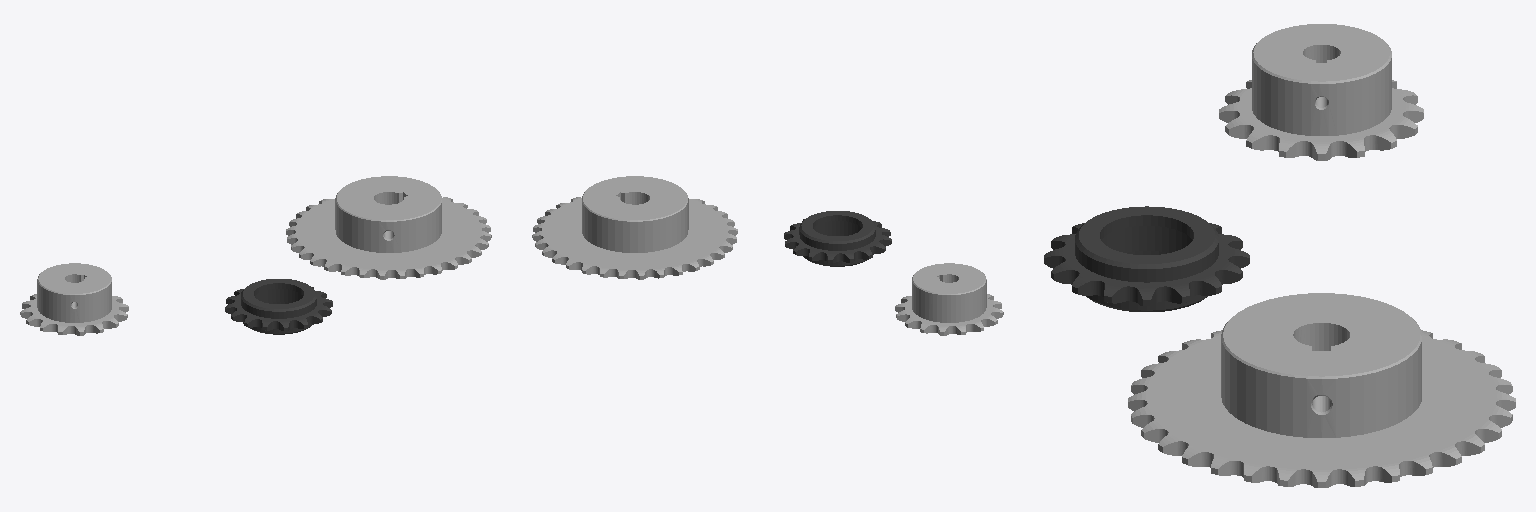
robot.urdf — board:
<?xml version="1.0"?>
<!-- Generated by scripts/debug/gen_bike_chain_board_urdf.py from bike_chain_task_board.sdf; do not edit. -->
<!-- tooth planes aligned to the large sprocket (deviation from the SDF): small_sprocket +3.00 mm, large_sprocket +0.00 mm, tensioner_sprocket +0.15 mm -->
<robot name="board">
  <link name="board">
    <visual name="board">
      <origin xyz="0 0 0" rpy="0 0 0"/>
      <geometry><mesh filename="bike_chain_task_board_no_sprockets.obj" scale="0.001 0.001 0.001"/></geometry>
    </visual>
    <collision name="board_collision">
      <origin xyz="0.192 0.192 -0.005" rpy="0 0 0"/>
      <geometry><box size="0.384 0.384 0.01"/></geometry>
    </collision>
  </link>
  <link name="small_sprocket">
    <inertial>
      <origin xyz="0 0 0" rpy="0 0 0"/>
      <mass value="0.3"/>
      <inertia ixx="3.06677e-05" iyy="3.0667375e-05" izz="6.0454911e-05" ixy="5.7518697e-14" ixz="1.6724428e-11" iyz="-1.9003215e-11"/>
    </inertial>
    <visual name="small_sprocket">
      <origin xyz="0 0 0.02" rpy="0 0 0"/>
      <geometry><mesh filename="small_sprocket.obj"/></geometry>
      <material name="small_sprocket"><color rgba="0.7 0.7 0.7 1"/></material>
    </visual>
    <collision name="small_sprocket_rim">
      <origin xyz="0 0 0.02215" rpy="0 0 0"/>
      <geometry><cylinder radius="0.02224" length="0.0043"/></geometry>
    </collision>
    <collision name="small_sprocket_tooth_0">
      <origin xyz="0.02224 0 0.02215" rpy="0 1.57079 0"/>
      <geometry><mesh filename="sprocket_tooth.obj"/></geometry>
    </collision>
    <collision name="small_sprocket_tooth_1">
      <origin xyz="0.020547 0.008511 0.02215" rpy="0 1.57079 0.392699"/>
      <geometry><mesh filename="sprocket_tooth.obj"/></geometry>
    </collision>
    <collision name="small_sprocket_tooth_2">
      <origin xyz="0.015726 0.015726 0.02215" rpy="0 1.57079 0.785398"/>
      <geometry><mesh filename="sprocket_tooth.obj"/></geometry>
    </collision>
    <collision name="small_sprocket_tooth_3">
      <origin xyz="0.008511 0.020547 0.02215" rpy="0 1.57079 1.178097"/>
      <geometry><mesh filename="sprocket_tooth.obj"/></geometry>
    </collision>
    <collision name="small_sprocket_tooth_4">
      <origin xyz="0 0.02224 0.02215" rpy="0 1.57079 1.570796"/>
      <geometry><mesh filename="sprocket_tooth.obj"/></geometry>
    </collision>
    <collision name="small_sprocket_tooth_5">
      <origin xyz="-0.008511 0.020547 0.02215" rpy="0 1.57079 1.963495"/>
      <geometry><mesh filename="sprocket_tooth.obj"/></geometry>
    </collision>
    <collision name="small_sprocket_tooth_6">
      <origin xyz="-0.015726 0.015726 0.02215" rpy="0 1.57079 2.356194"/>
      <geometry><mesh filename="sprocket_tooth.obj"/></geometry>
    </collision>
    <collision name="small_sprocket_tooth_7">
      <origin xyz="-0.020547 0.008511 0.02215" rpy="0 1.57079 2.748894"/>
      <geometry><mesh filename="sprocket_tooth.obj"/></geometry>
    </collision>
    <collision name="small_sprocket_tooth_8">
      <origin xyz="-0.02224 0 0.02215" rpy="0 1.57079 3.141593"/>
      <geometry><mesh filename="sprocket_tooth.obj"/></geometry>
    </collision>
    <collision name="small_sprocket_tooth_9">
      <origin xyz="-0.020547 -0.008511 0.02215" rpy="0 1.57079 3.534292"/>
      <geometry><mesh filename="sprocket_tooth.obj"/></geometry>
    </collision>
    <collision name="small_sprocket_tooth_10">
      <origin xyz="-0.015726 -0.015726 0.02215" rpy="0 1.57079 3.926991"/>
      <geometry><mesh filename="sprocket_tooth.obj"/></geometry>
    </collision>
    <collision name="small_sprocket_tooth_11">
      <origin xyz="-0.008511 -0.020547 0.02215" rpy="0 1.57079 4.31969"/>
      <geometry><mesh filename="sprocket_tooth.obj"/></geometry>
    </collision>
    <collision name="small_sprocket_tooth_12">
      <origin xyz="0 -0.02224 0.02215" rpy="0 1.57079 4.712389"/>
      <geometry><mesh filename="sprocket_tooth.obj"/></geometry>
    </collision>
    <collision name="small_sprocket_tooth_13">
      <origin xyz="0.008511 -0.020547 0.02215" rpy="0 1.57079 5.105088"/>
      <geometry><mesh filename="sprocket_tooth.obj"/></geometry>
    </collision>
    <collision name="small_sprocket_tooth_14">
      <origin xyz="0.015726 -0.015726 0.02215" rpy="0 1.57079 5.497787"/>
      <geometry><mesh filename="sprocket_tooth.obj"/></geometry>
    </collision>
    <collision name="small_sprocket_tooth_15">
      <origin xyz="0.020547 -0.008511 0.02215" rpy="0 1.57079 5.890486"/>
      <geometry><mesh filename="sprocket_tooth.obj"/></geometry>
    </collision>
    <collision name="small_sprocket_hub">
      <origin xyz="0 0 0.03215" rpy="0 0 0"/>
      <geometry><cylinder radius="0.0185" length="0.0157"/></geometry>
    </collision>
    <collision name="screw_head">
      <origin xyz="0 0 0.043" rpy="0 0 0"/>
      <geometry><cylinder radius="0.005" length="0.006"/></geometry>
    </collision>
  </link>
  <link name="large_sprocket">
    <inertial>
      <origin xyz="0 0 0" rpy="0 0 0"/>
      <mass value="0.5"/>
      <inertia ixx="3.06677e-05" iyy="3.0667375e-05" izz="6.0454911e-05" ixy="5.7518697e-14" ixz="1.6724428e-11" iyz="-1.9003215e-11"/>
    </inertial>
    <visual name="large_sprocket">
      <origin xyz="0 0 0.023" rpy="0 0 0"/>
      <geometry><mesh filename="large_sprocket.obj"/></geometry>
      <material name="large_sprocket"><color rgba="0.7 0.7 0.7 1"/></material>
    </visual>
    <collision name="large_sprocket_rim">
      <origin xyz="0 0 0.02515" rpy="0 0 0"/>
      <geometry><cylinder radius="0.046237" length="0.0043"/></geometry>
    </collision>
    <collision name="large_sprocket_hub">
      <origin xyz="0 0 0.03615" rpy="0 0 0"/>
      <geometry><cylinder radius="0.0265" length="0.0177"/></geometry>
    </collision>
    <collision name="screw_head">
      <origin xyz="0 0 0.048" rpy="0 0 0"/>
      <geometry><cylinder radius="0.005" length="0.006"/></geometry>
    </collision>
    <collision name="large_sprocket_tooth_0">
      <origin xyz="0.046237 0 0.02515" rpy="0 1.57079 0"/>
      <geometry><mesh filename="sprocket_tooth.obj"/></geometry>
    </collision>
    <collision name="large_sprocket_tooth_1">
      <origin xyz="0.045349 0.00902 0.02515" rpy="0 1.57079 0.19635"/>
      <geometry><mesh filename="sprocket_tooth.obj"/></geometry>
    </collision>
    <collision name="large_sprocket_tooth_2">
      <origin xyz="0.042717 0.017694 0.02515" rpy="0 1.57079 0.392699"/>
      <geometry><mesh filename="sprocket_tooth.obj"/></geometry>
    </collision>
    <collision name="large_sprocket_tooth_3">
      <origin xyz="0.038445 0.025688 0.02515" rpy="0 1.57079 0.589049"/>
      <geometry><mesh filename="sprocket_tooth.obj"/></geometry>
    </collision>
    <collision name="large_sprocket_tooth_4">
      <origin xyz="0.032694 0.032694 0.02515" rpy="0 1.57079 0.785398"/>
      <geometry><mesh filename="sprocket_tooth.obj"/></geometry>
    </collision>
    <collision name="large_sprocket_tooth_5">
      <origin xyz="0.025688 0.038445 0.02515" rpy="0 1.57079 0.981748"/>
      <geometry><mesh filename="sprocket_tooth.obj"/></geometry>
    </collision>
    <collision name="large_sprocket_tooth_6">
      <origin xyz="0.017694 0.042717 0.02515" rpy="0 1.57079 1.178097"/>
      <geometry><mesh filename="sprocket_tooth.obj"/></geometry>
    </collision>
    <collision name="large_sprocket_tooth_7">
      <origin xyz="0.00902 0.045349 0.02515" rpy="0 1.57079 1.374447"/>
      <geometry><mesh filename="sprocket_tooth.obj"/></geometry>
    </collision>
    <collision name="large_sprocket_tooth_8">
      <origin xyz="0 0.046237 0.02515" rpy="0 1.57079 1.570796"/>
      <geometry><mesh filename="sprocket_tooth.obj"/></geometry>
    </collision>
    <collision name="large_sprocket_tooth_9">
      <origin xyz="-0.00902 0.045349 0.02515" rpy="0 1.57079 1.767146"/>
      <geometry><mesh filename="sprocket_tooth.obj"/></geometry>
    </collision>
    <collision name="large_sprocket_tooth_10">
      <origin xyz="-0.017694 0.042717 0.02515" rpy="0 1.57079 1.963495"/>
      <geometry><mesh filename="sprocket_tooth.obj"/></geometry>
    </collision>
    <collision name="large_sprocket_tooth_11">
      <origin xyz="-0.025688 0.038445 0.02515" rpy="0 1.57079 2.159845"/>
      <geometry><mesh filename="sprocket_tooth.obj"/></geometry>
    </collision>
    <collision name="large_sprocket_tooth_12">
      <origin xyz="-0.032694 0.032694 0.02515" rpy="0 1.57079 2.356194"/>
      <geometry><mesh filename="sprocket_tooth.obj"/></geometry>
    </collision>
    <collision name="large_sprocket_tooth_13">
      <origin xyz="-0.038445 0.025688 0.02515" rpy="0 1.57079 2.552544"/>
      <geometry><mesh filename="sprocket_tooth.obj"/></geometry>
    </collision>
    <collision name="large_sprocket_tooth_14">
      <origin xyz="-0.042717 0.017694 0.02515" rpy="0 1.57079 2.748894"/>
      <geometry><mesh filename="sprocket_tooth.obj"/></geometry>
    </collision>
    <collision name="large_sprocket_tooth_15">
      <origin xyz="-0.045349 0.00902 0.02515" rpy="0 1.57079 2.945243"/>
      <geometry><mesh filename="sprocket_tooth.obj"/></geometry>
    </collision>
    <collision name="large_sprocket_tooth_16">
      <origin xyz="-0.046237 0 0.02515" rpy="0 1.57079 3.141593"/>
      <geometry><mesh filename="sprocket_tooth.obj"/></geometry>
    </collision>
    <collision name="large_sprocket_tooth_17">
      <origin xyz="-0.045349 -0.00902 0.02515" rpy="0 1.57079 3.337942"/>
      <geometry><mesh filename="sprocket_tooth.obj"/></geometry>
    </collision>
    <collision name="large_sprocket_tooth_18">
      <origin xyz="-0.042717 -0.017694 0.02515" rpy="0 1.57079 3.534292"/>
      <geometry><mesh filename="sprocket_tooth.obj"/></geometry>
    </collision>
    <collision name="large_sprocket_tooth_19">
      <origin xyz="-0.038445 -0.025688 0.02515" rpy="0 1.57079 3.730641"/>
      <geometry><mesh filename="sprocket_tooth.obj"/></geometry>
    </collision>
    <collision name="large_sprocket_tooth_20">
      <origin xyz="-0.032694 -0.032694 0.02515" rpy="0 1.57079 3.926991"/>
      <geometry><mesh filename="sprocket_tooth.obj"/></geometry>
    </collision>
    <collision name="large_sprocket_tooth_21">
      <origin xyz="-0.025688 -0.038445 0.02515" rpy="0 1.57079 4.12334"/>
      <geometry><mesh filename="sprocket_tooth.obj"/></geometry>
    </collision>
    <collision name="large_sprocket_tooth_22">
      <origin xyz="-0.017694 -0.042717 0.02515" rpy="0 1.57079 4.31969"/>
      <geometry><mesh filename="sprocket_tooth.obj"/></geometry>
    </collision>
    <collision name="large_sprocket_tooth_23">
      <origin xyz="-0.00902 -0.045349 0.02515" rpy="0 1.57079 4.516039"/>
      <geometry><mesh filename="sprocket_tooth.obj"/></geometry>
    </collision>
    <collision name="large_sprocket_tooth_24">
      <origin xyz="0 -0.046237 0.02515" rpy="0 1.57079 4.712389"/>
      <geometry><mesh filename="sprocket_tooth.obj"/></geometry>
    </collision>
    <collision name="large_sprocket_tooth_25">
      <origin xyz="0.00902 -0.045349 0.02515" rpy="0 1.57079 4.908739"/>
      <geometry><mesh filename="sprocket_tooth.obj"/></geometry>
    </collision>
    <collision name="large_sprocket_tooth_26">
      <origin xyz="0.017694 -0.042717 0.02515" rpy="0 1.57079 5.105088"/>
      <geometry><mesh filename="sprocket_tooth.obj"/></geometry>
    </collision>
    <collision name="large_sprocket_tooth_27">
      <origin xyz="0.025688 -0.038445 0.02515" rpy="0 1.57079 5.301438"/>
      <geometry><mesh filename="sprocket_tooth.obj"/></geometry>
    </collision>
    <collision name="large_sprocket_tooth_28">
      <origin xyz="0.032694 -0.032694 0.02515" rpy="0 1.57079 5.497787"/>
      <geometry><mesh filename="sprocket_tooth.obj"/></geometry>
    </collision>
    <collision name="large_sprocket_tooth_29">
      <origin xyz="0.038445 -0.025688 0.02515" rpy="0 1.57079 5.694137"/>
      <geometry><mesh filename="sprocket_tooth.obj"/></geometry>
    </collision>
    <collision name="large_sprocket_tooth_30">
      <origin xyz="0.042717 -0.017694 0.02515" rpy="0 1.57079 5.890486"/>
      <geometry><mesh filename="sprocket_tooth.obj"/></geometry>
    </collision>
    <collision name="large_sprocket_tooth_31">
      <origin xyz="0.045349 -0.00902 0.02515" rpy="0 1.57079 6.086836"/>
      <geometry><mesh filename="sprocket_tooth.obj"/></geometry>
    </collision>
  </link>
  <link name="tensioner_sprocket">
    <inertial>
      <origin xyz="0 0 0" rpy="0 0 0"/>
      <mass value="0.3"/>
      <inertia ixx="3.06677e-05" iyy="3.0667375e-05" izz="6.0454911e-05" ixy="5.7518697e-14" ixz="1.6724428e-11" iyz="-1.9003215e-11"/>
    </inertial>
    <visual name="tensioner_sprocket">
      <origin xyz="0 0 0.018" rpy="0 0 0"/>
      <geometry><mesh filename="tensioner_sprocket.obj"/></geometry>
      <material name="tensioner_sprocket"><color rgba="0.3 0.3 0.3 1"/></material>
    </visual>
    <collision name="tensioner_sprocket_bottom_hub">
      <origin xyz="0 0 0.020425" rpy="0 0 0"/>
      <geometry><cylinder radius="0.019" length="0.00485"/></geometry>
    </collision>
    <collision name="tensioner_sprocket_rim">
      <origin xyz="0 0 0.025" rpy="0 0 0"/>
      <geometry><cylinder radius="0.02224" length="0.0043"/></geometry>
    </collision>
    <collision name="tensioner_sprocket_top_hub">
      <origin xyz="0 0 0.029575" rpy="0 0 0"/>
      <geometry><cylinder radius="0.019" length="0.00485"/></geometry>
    </collision>
    <collision name="tensioner_sprocket_tooth_0">
      <origin xyz="0.02224 0 0.025" rpy="0 1.57079 0"/>
      <geometry><mesh filename="sprocket_tooth.obj"/></geometry>
    </collision>
    <collision name="tensioner_sprocket_tooth_1">
      <origin xyz="0.020547 0.008511 0.025" rpy="0 1.57079 0.392699"/>
      <geometry><mesh filename="sprocket_tooth.obj"/></geometry>
    </collision>
    <collision name="tensioner_sprocket_tooth_2">
      <origin xyz="0.015726 0.015726 0.025" rpy="0 1.57079 0.785398"/>
      <geometry><mesh filename="sprocket_tooth.obj"/></geometry>
    </collision>
    <collision name="tensioner_sprocket_tooth_3">
      <origin xyz="0.008511 0.020547 0.025" rpy="0 1.57079 1.178097"/>
      <geometry><mesh filename="sprocket_tooth.obj"/></geometry>
    </collision>
    <collision name="tensioner_sprocket_tooth_4">
      <origin xyz="0 0.02224 0.025" rpy="0 1.57079 1.570796"/>
      <geometry><mesh filename="sprocket_tooth.obj"/></geometry>
    </collision>
    <collision name="tensioner_sprocket_tooth_5">
      <origin xyz="-0.008511 0.020547 0.025" rpy="0 1.57079 1.963495"/>
      <geometry><mesh filename="sprocket_tooth.obj"/></geometry>
    </collision>
    <collision name="tensioner_sprocket_tooth_6">
      <origin xyz="-0.015726 0.015726 0.025" rpy="0 1.57079 2.356194"/>
      <geometry><mesh filename="sprocket_tooth.obj"/></geometry>
    </collision>
    <collision name="tensioner_sprocket_tooth_7">
      <origin xyz="-0.020547 0.008511 0.025" rpy="0 1.57079 2.748894"/>
      <geometry><mesh filename="sprocket_tooth.obj"/></geometry>
    </collision>
    <collision name="tensioner_sprocket_tooth_8">
      <origin xyz="-0.02224 0 0.025" rpy="0 1.57079 3.141593"/>
      <geometry><mesh filename="sprocket_tooth.obj"/></geometry>
    </collision>
    <collision name="tensioner_sprocket_tooth_9">
      <origin xyz="-0.020547 -0.008511 0.025" rpy="0 1.57079 3.534292"/>
      <geometry><mesh filename="sprocket_tooth.obj"/></geometry>
    </collision>
    <collision name="tensioner_sprocket_tooth_10">
      <origin xyz="-0.015726 -0.015726 0.025" rpy="0 1.57079 3.926991"/>
      <geometry><mesh filename="sprocket_tooth.obj"/></geometry>
    </collision>
    <collision name="tensioner_sprocket_tooth_11">
      <origin xyz="-0.008511 -0.020547 0.025" rpy="0 1.57079 4.31969"/>
      <geometry><mesh filename="sprocket_tooth.obj"/></geometry>
    </collision>
    <collision name="tensioner_sprocket_tooth_12">
      <origin xyz="0 -0.02224 0.025" rpy="0 1.57079 4.712389"/>
      <geometry><mesh filename="sprocket_tooth.obj"/></geometry>
    </collision>
    <collision name="tensioner_sprocket_tooth_13">
      <origin xyz="0.008511 -0.020547 0.025" rpy="0 1.57079 5.105088"/>
      <geometry><mesh filename="sprocket_tooth.obj"/></geometry>
    </collision>
    <collision name="tensioner_sprocket_tooth_14">
      <origin xyz="0.015726 -0.015726 0.025" rpy="0 1.57079 5.497787"/>
      <geometry><mesh filename="sprocket_tooth.obj"/></geometry>
    </collision>
    <collision name="tensioner_sprocket_tooth_15">
      <origin xyz="0.020547 -0.008511 0.025" rpy="0 1.57079 5.890486"/>
      <geometry><mesh filename="sprocket_tooth.obj"/></geometry>
    </collision>
    <collision name="hex_nut">
      <origin xyz="0.0003 0 0.034455" rpy="0 0 0"/>
      <geometry><cylinder radius="0.0075" length="0.0051"/></geometry>
    </collision>
    <collision name="screw_head">
      <origin xyz="0.0003 0 0.04065" rpy="0 0 0"/>
      <geometry><cylinder radius="0.004" length="0.0071"/></geometry>
    </collision>
  </link>
  <joint name="small_sprocket_joint" type="continuous">
    <parent link="board"/>
    <child link="small_sprocket"/>
    <origin xyz="0.054 0.073 0.003" rpy="0 0 0"/>
    <axis xyz="0 0 1"/>
    <dynamics damping="0.01"/>
    <limit effort="0" velocity="100"/>
  </joint>
  <joint name="large_sprocket_joint" type="continuous">
    <parent link="board"/>
    <child link="large_sprocket"/>
    <origin xyz="0.234 0.073 0" rpy="0 0 0"/>
    <axis xyz="0 0 1"/>
    <dynamics damping="0.01"/>
    <limit effort="0" velocity="100"/>
  </joint>
  <joint name="tensioner_sprocket_joint" type="continuous">
    <parent link="board"/>
    <child link="tensioner_sprocket"/>
    <origin xyz="0.1445 0.027 0.00015" rpy="0 0 0"/>
    <axis xyz="0 0 1"/>
    <dynamics damping="0.01"/>
    <limit effort="0" velocity="100"/>
  </joint>
</robot>

--- Facts derived from the render (not from the file) ---
Views: 3 orthographic renders of the robot side by side, from view 1: azimuth 30°, elevation 25°; view 2: azimuth 150°, elevation 25°; view 3: azimuth 270°, elevation 25°.
Model board with 4 links and 3 joints (3 continuous), rooted at board, posed all joints at 0.
Links seen in each view (by area): view 1: large_sprocket, small_sprocket, tensioner_sprocket; view 2: large_sprocket, small_sprocket, tensioner_sprocket; view 3: large_sprocket, small_sprocket, tensioner_sprocket.
Link boxes in pixels (left/top/right/bottom): large_sprocket: left=286, top=176, right=491, bottom=279; small_sprocket: left=20, top=263, right=128, bottom=335; tensioner_sprocket: left=225, top=279, right=332, bottom=334; large_sprocket: left=532, top=176, right=737, bottom=279; small_sprocket: left=895, top=263, right=1003, bottom=335; tensioner_sprocket: left=784, top=211, right=891, bottom=266; large_sprocket: left=1128, top=293, right=1515, bottom=487; small_sprocket: left=1219, top=24, right=1423, bottom=160; tensioner_sprocket: left=1044, top=206, right=1249, bottom=311.
Bounding box of the posed robot: 0.258 × 0.124 × 0.0268 m (x, y, z).
Meshes: 4 distinct files referenced, 3 mesh visuals loaded (3 OBJ); not drawn: 1 (reference not matched to a file when rendering).
